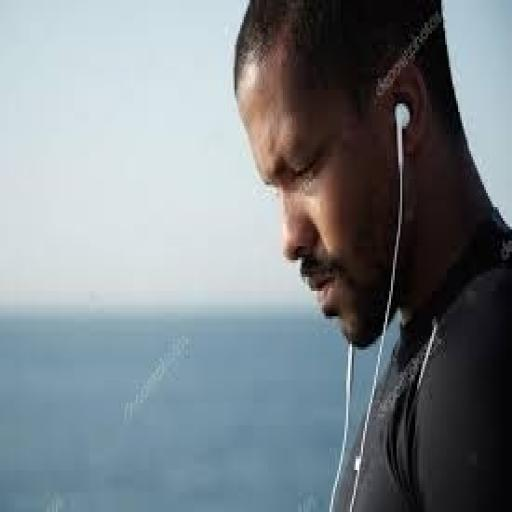listening_to_music: (231, 0, 510, 509)
